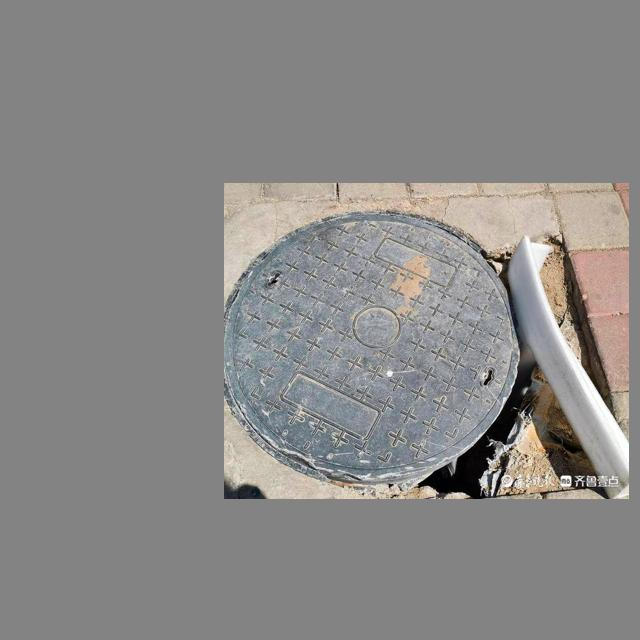circle: (230, 212, 597, 490)
